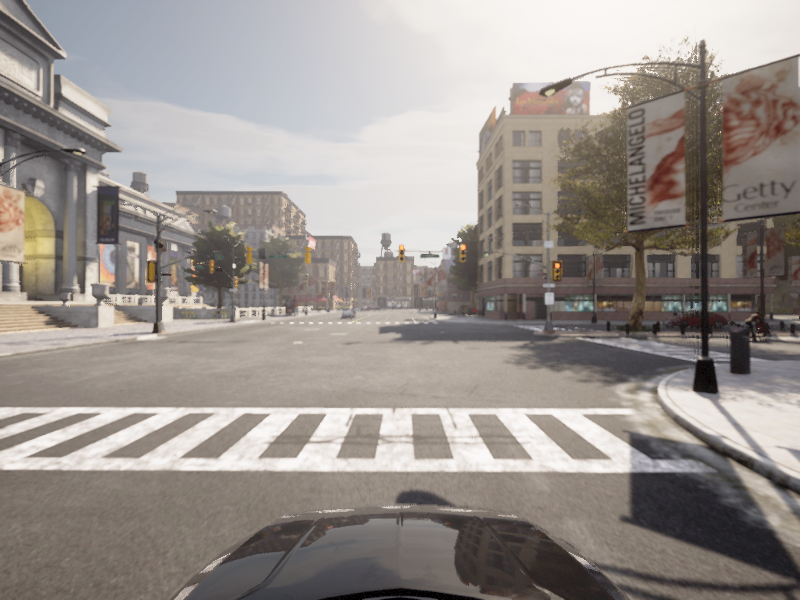vehicle: (658, 310, 731, 328), (735, 310, 776, 342)
